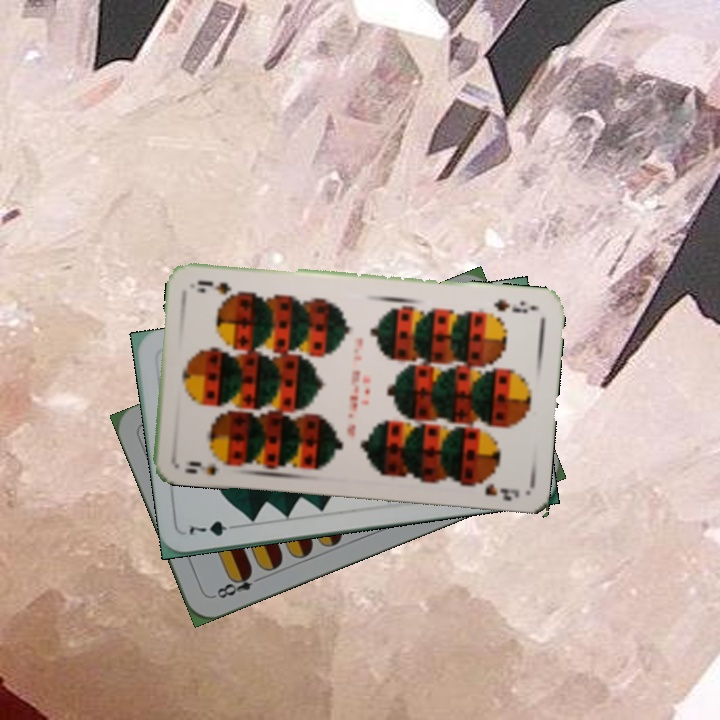E8: (209, 566, 266, 601)
G7: (183, 516, 243, 539)
S9: (181, 452, 235, 478), (490, 295, 530, 316)
